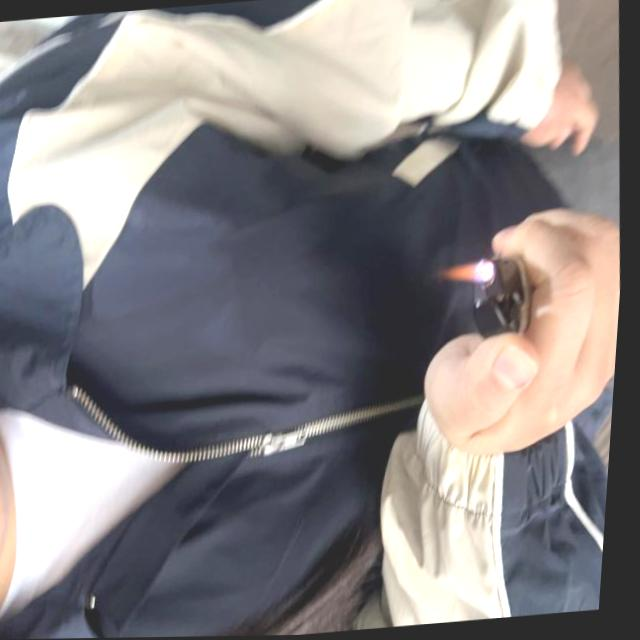Fire: (444, 258, 498, 290)
